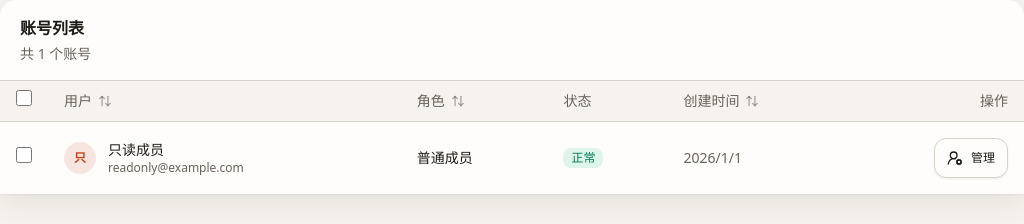
Test: UserList › supports selecting rows and showing the batch action toolbar
Click the checkbox named "选择账号 readonly@example.com" at {"x": 24, "y": 155}, box [16,147,32,163]
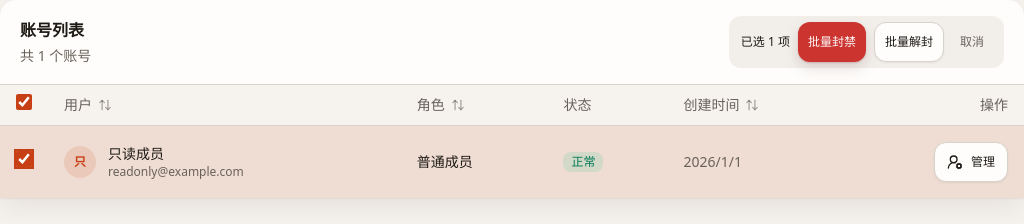
expect the text "已选 1 项" is shown: met, box [741,34,790,50]
expect the button "批量封禁" is shown: met, box [798,22,866,62]
expect the button "批量解封" is shown: met, box [874,22,944,62]
